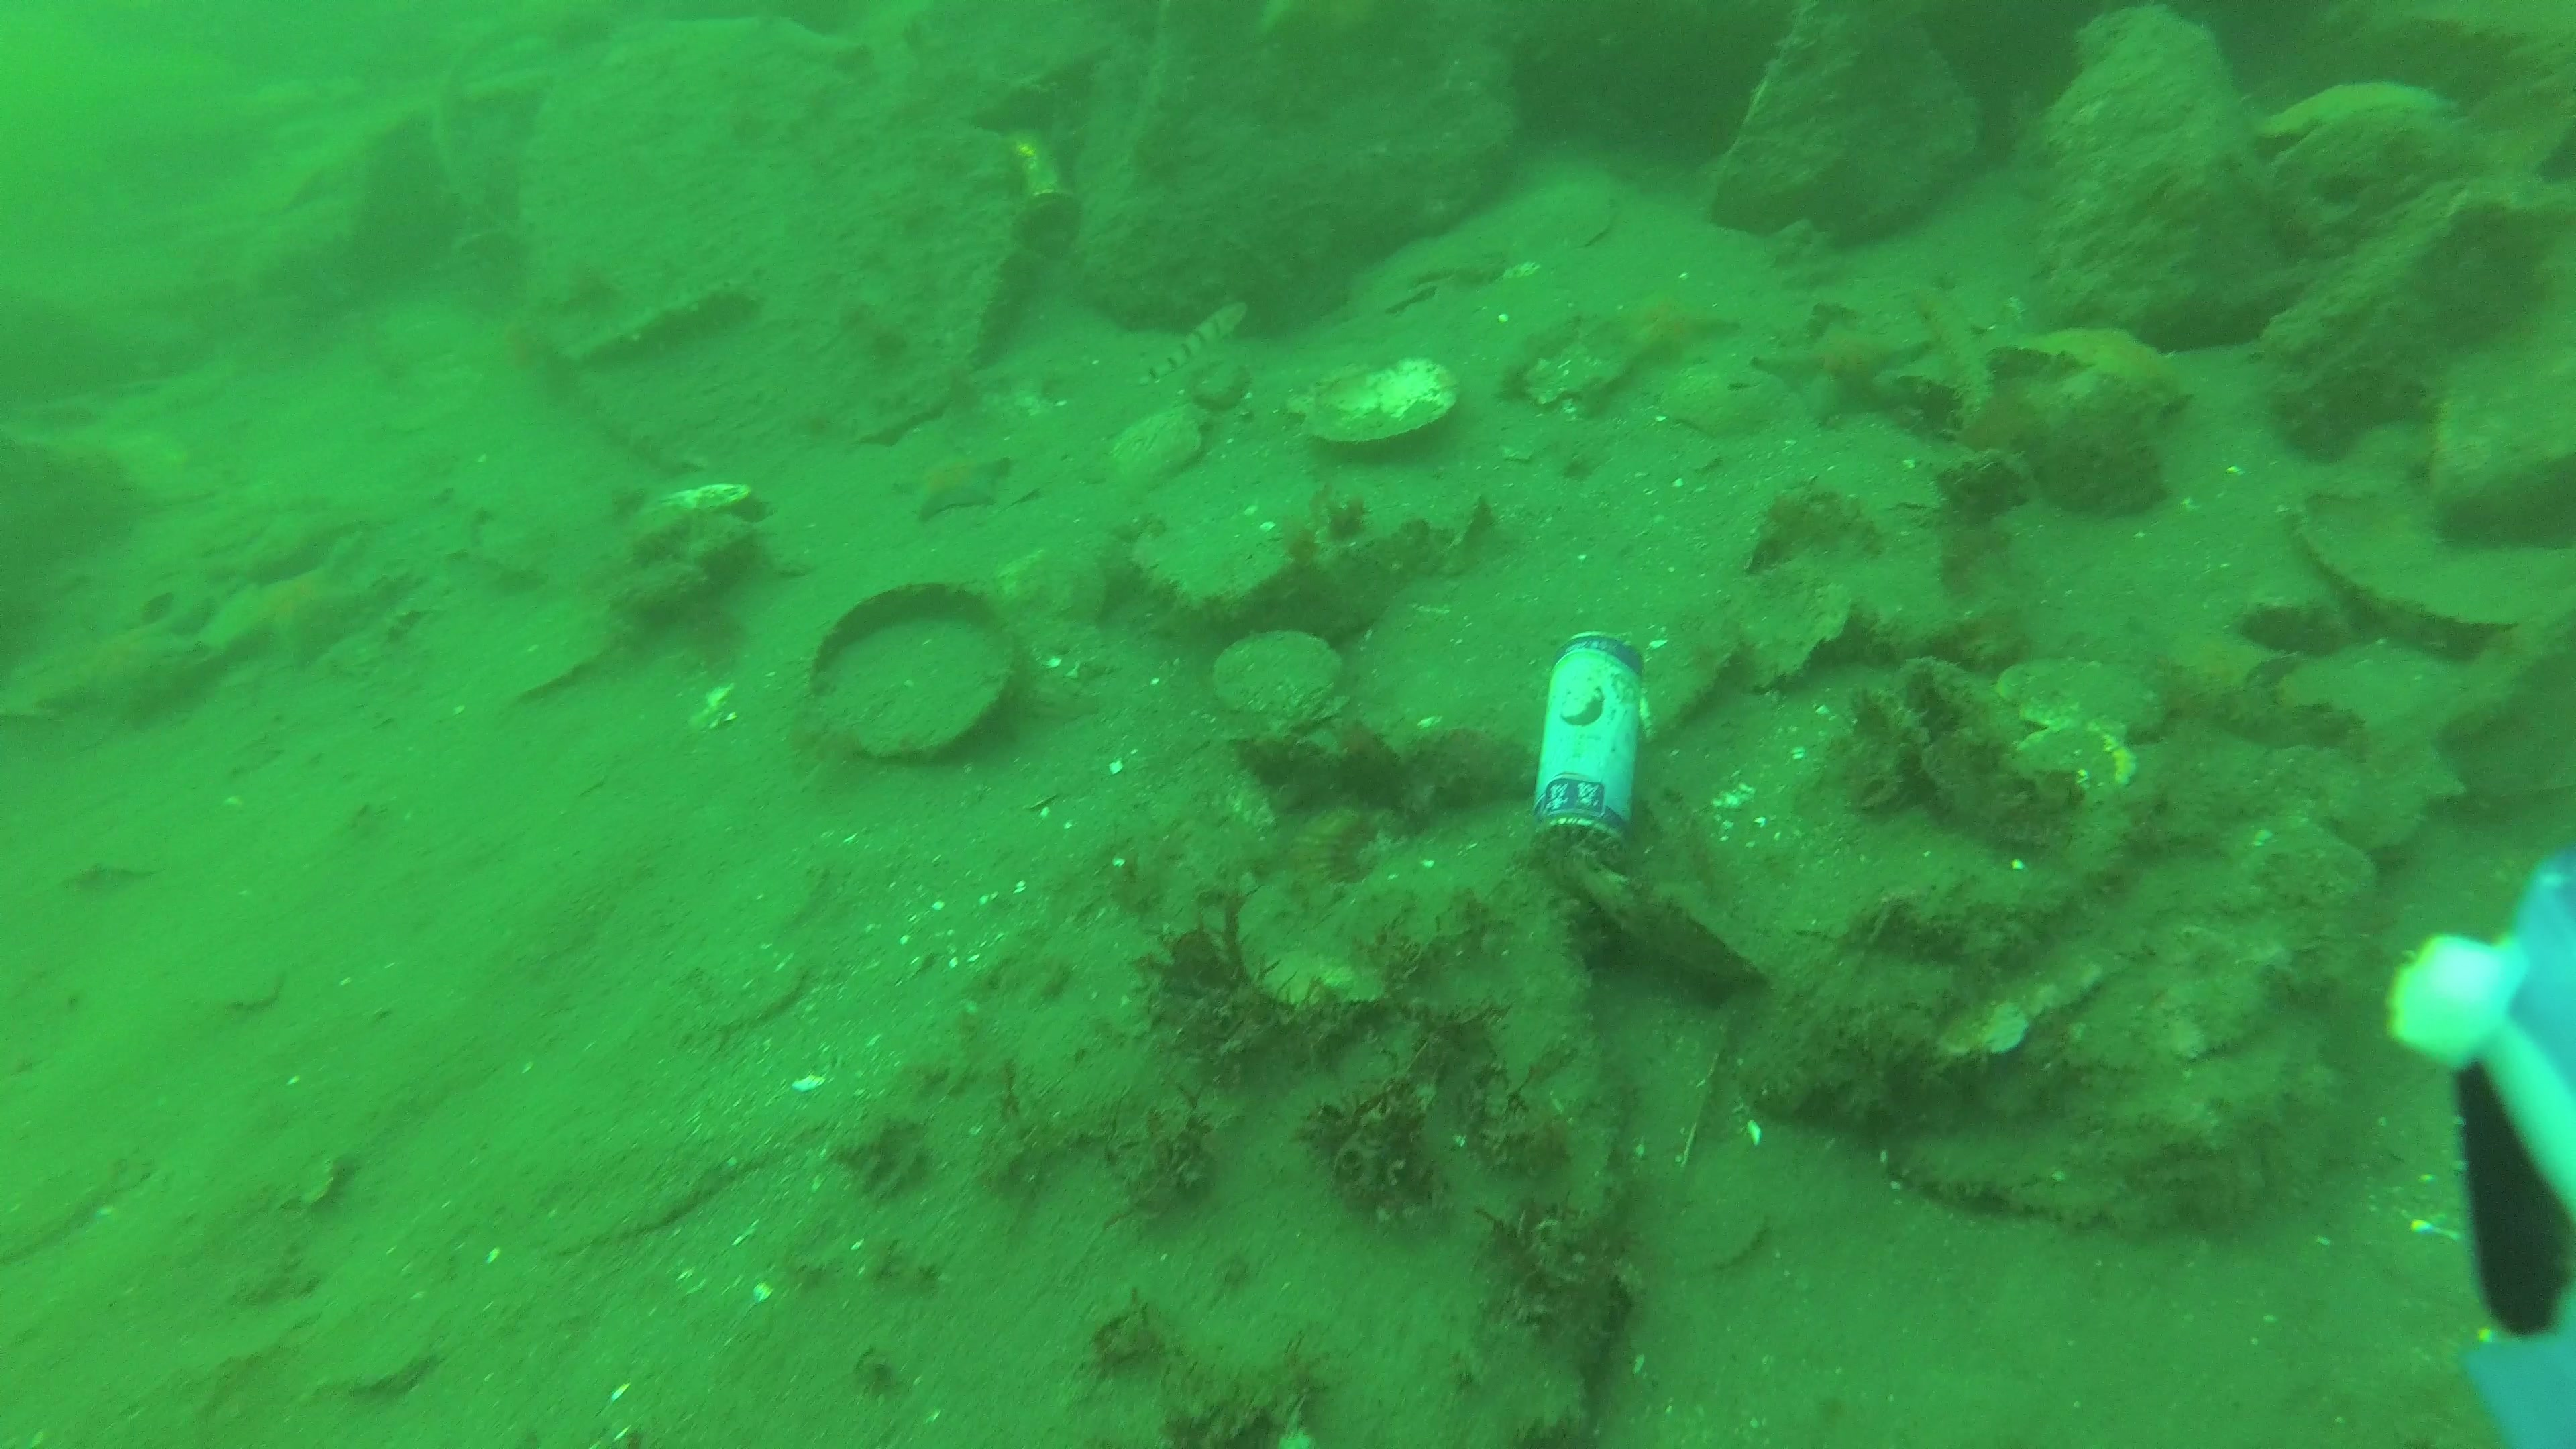holothurian: (563, 274, 757, 370)
scallop: (1235, 879, 1385, 1007), (1996, 658, 2171, 750), (1205, 633, 1352, 734)
starfish: (219, 534, 379, 667), (1755, 329, 1937, 423), (42, 626, 203, 722), (1997, 324, 2183, 400), (2254, 78, 2457, 138), (214, 518, 364, 584), (892, 449, 1016, 524)
